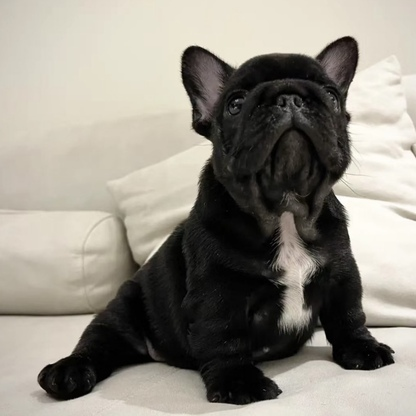bulldog: (34, 31, 399, 406)
